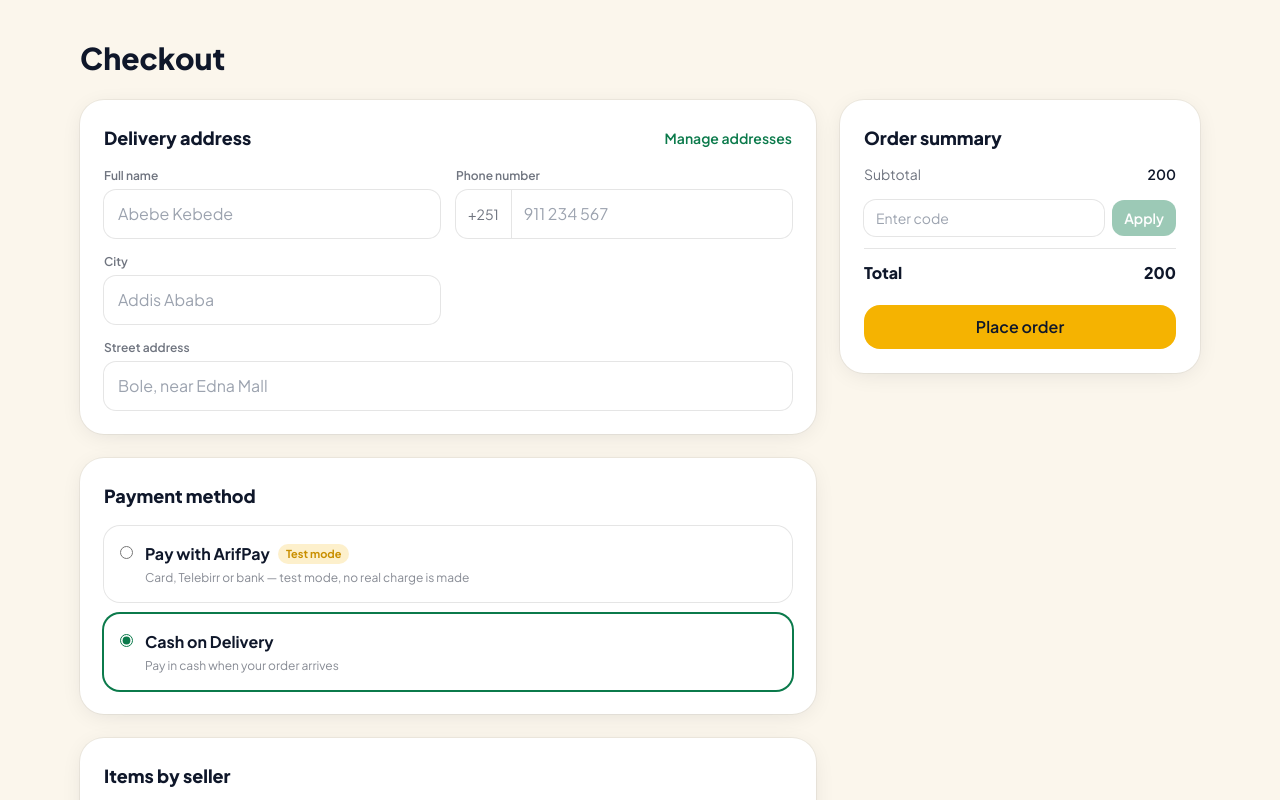
Test: Checkout › applies a valid coupon: shows the discount and lowers the total
The image size is (1280, 800).
Type "save20" into the field named "Coupon code" at x=984, y=218, box [864,200,1104,236]
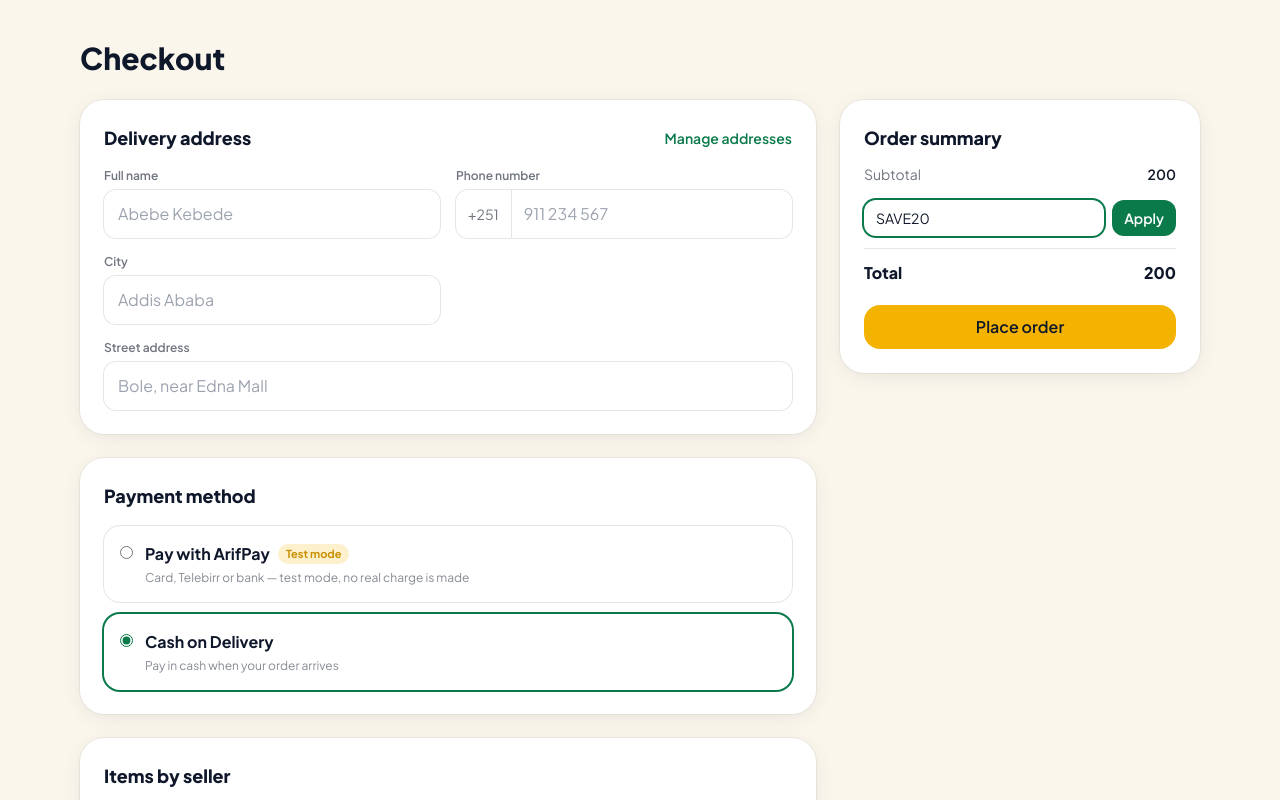
Click the button "Apply" at x=1144, y=218, box [1112,200,1176,236]
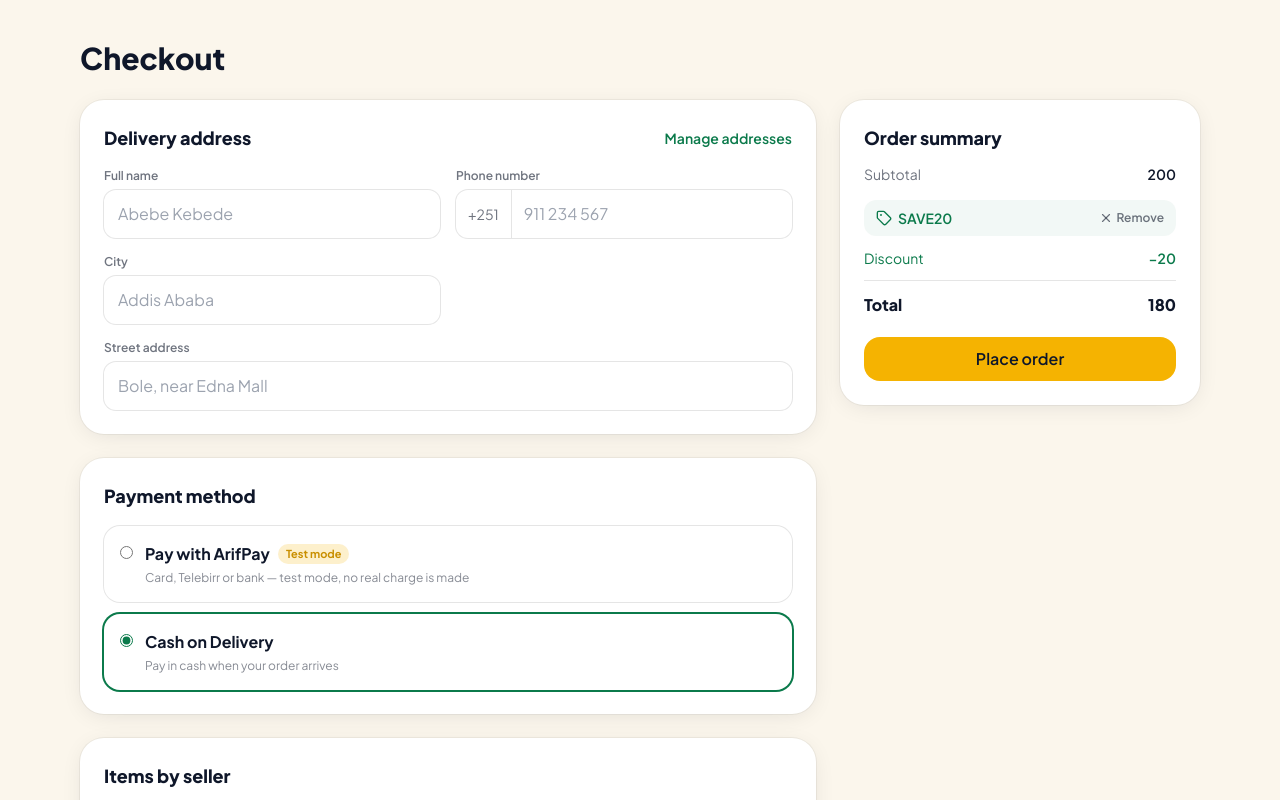
Result: the text "Discount" is shown at [864,248,924,268]
Result: the text "SAVE20" is shown at [898,208,952,228]
Result: the text "180" is shown at [1148,293,1176,317]
